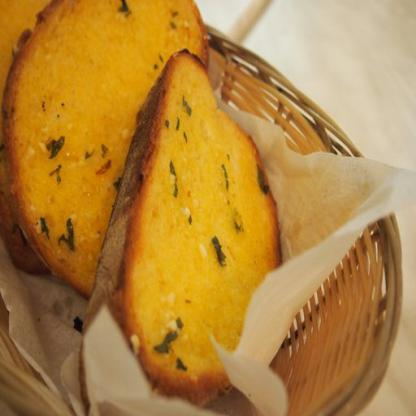toast bread: (7, 0, 219, 284), (124, 54, 280, 395)
